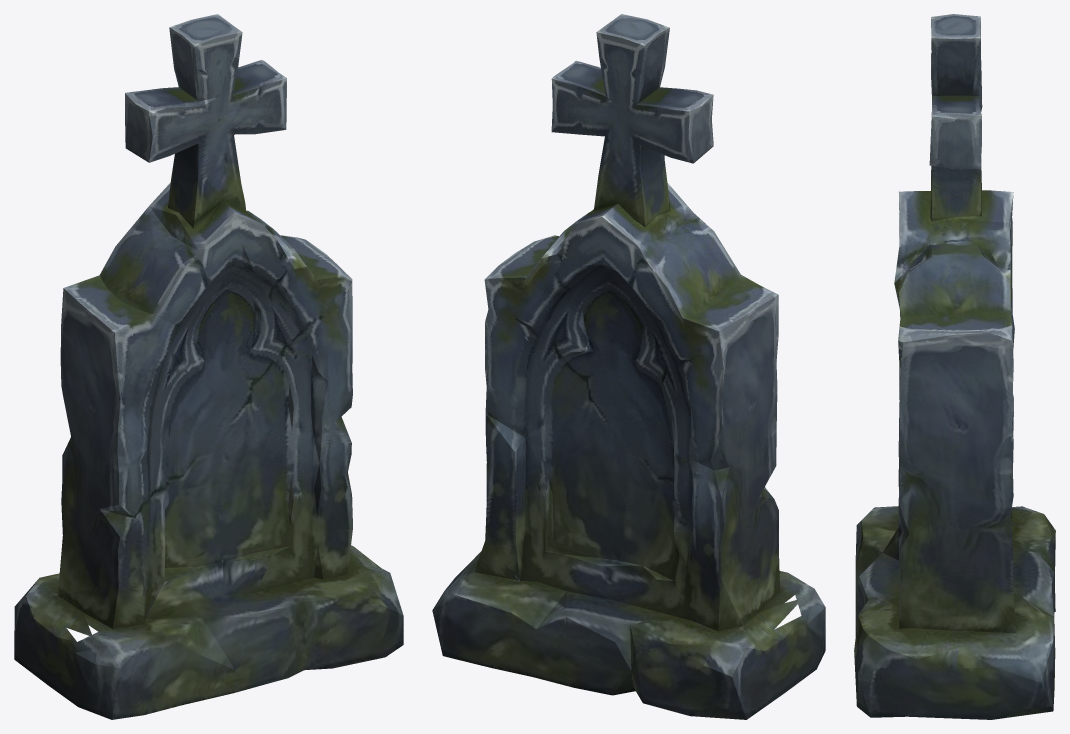
File: tombstone.glb
3 renders of one model, left to right at view 1: azimuth 30°, elevation 25°; view 2: azimuth 150°, elevation 25°; view 3: azimuth 270°, elevation 25°, orthographic.
Visible parts, largest first — view 1: Mesh; view 2: Mesh; view 3: Mesh.
Boxes of the visible parts, <box> form: Mesh: <box>14,14,403,719</box>; Mesh: <box>432,14,825,719</box>; Mesh: <box>854,14,1055,719</box>.
Size of the model in its own units: 0.5284 by 1 by 0.2957.
1 material, 1 textured.
